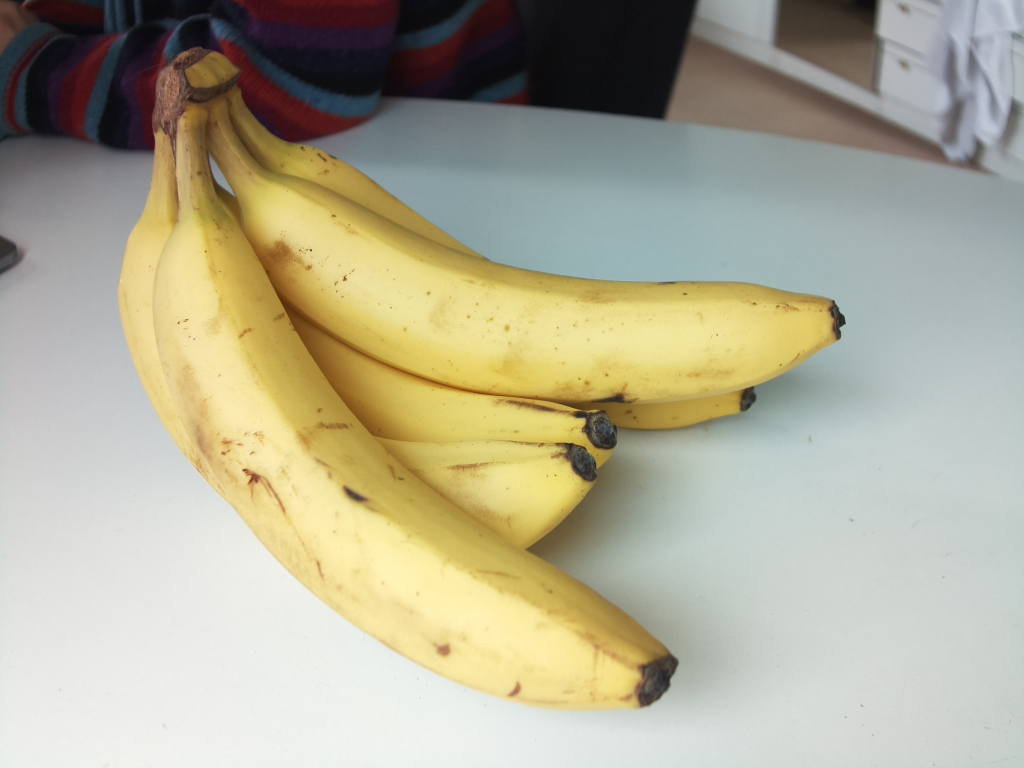banana: (156, 61, 680, 712), (170, 54, 845, 403), (119, 63, 598, 552), (182, 49, 756, 433), (166, 66, 615, 475)
